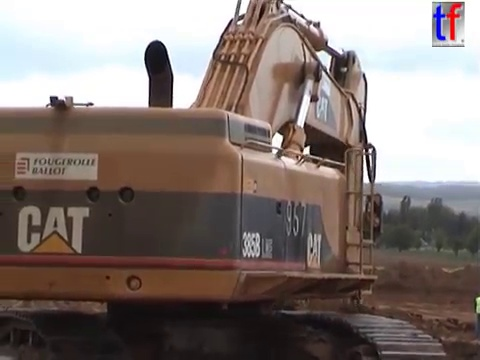excavator: (1, 1, 450, 360)
worker: (473, 287, 480, 338)
